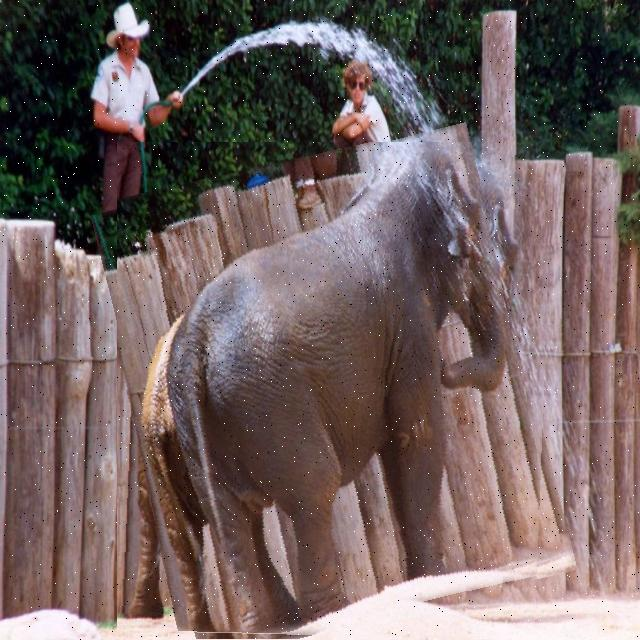elephant: (117, 142, 553, 640)
